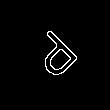P_SE: (24, 24, 86, 86)
